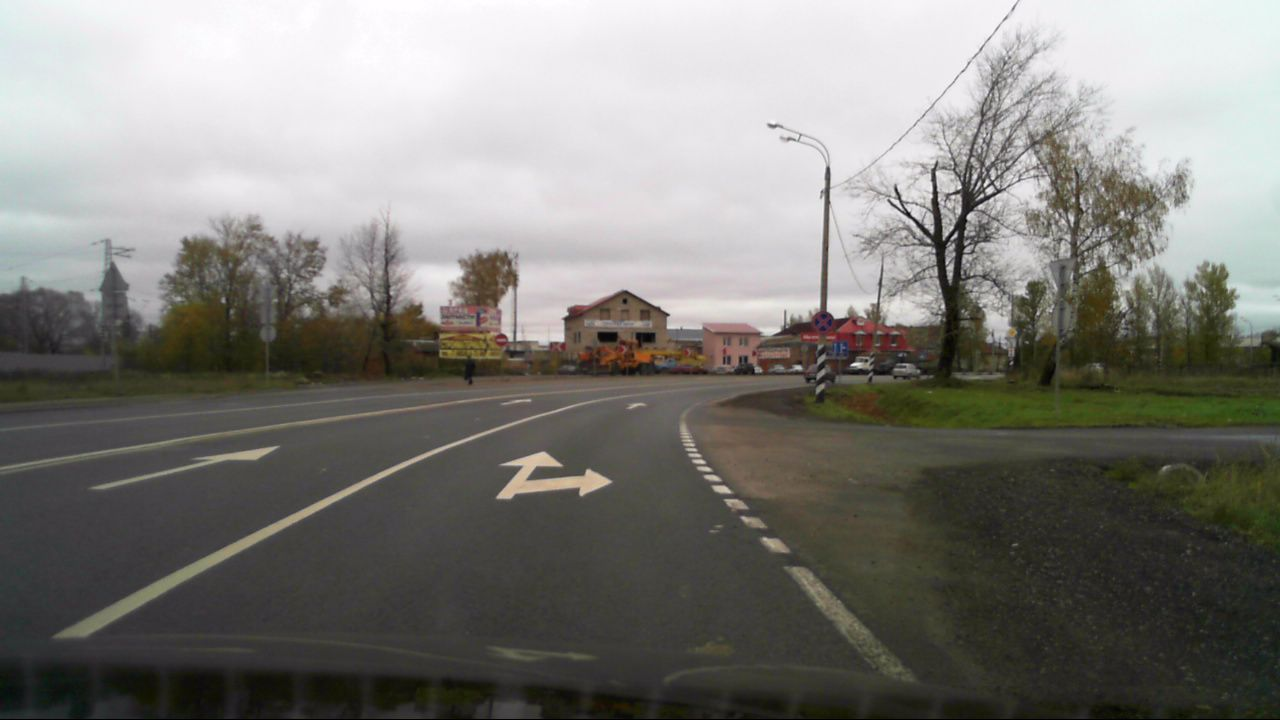No Parking: (812, 311, 833, 333)
